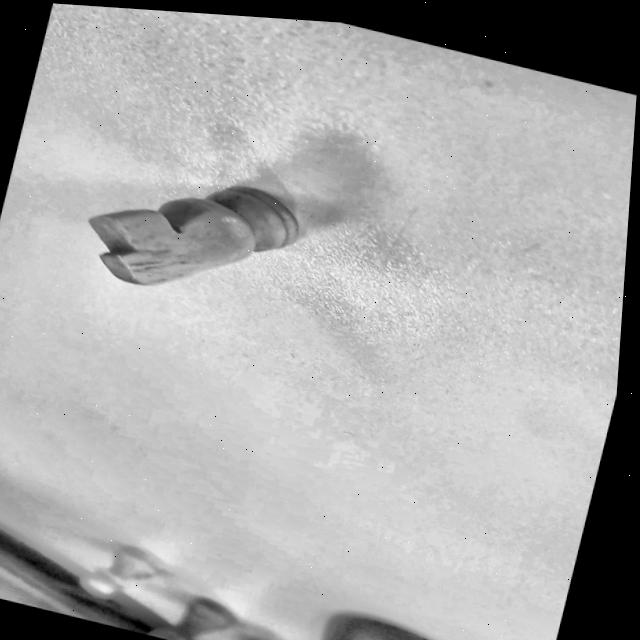white-knight: (12, 121, 355, 331)
